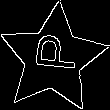P_W: (26, 38, 80, 80)
